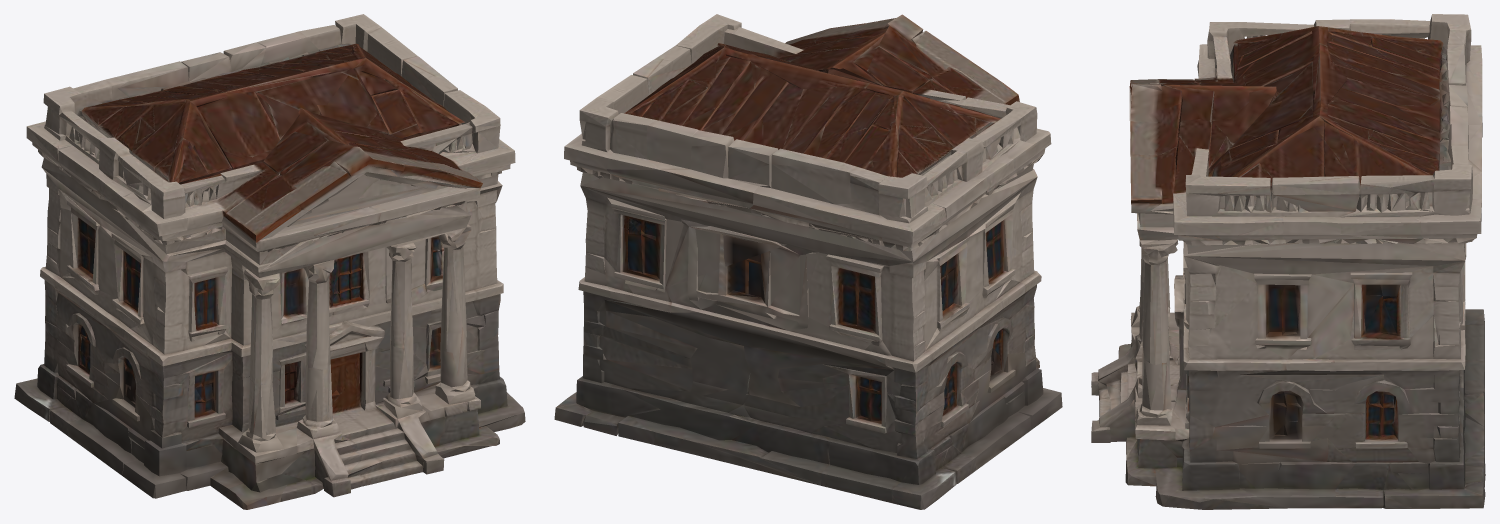
The model's file is bank.glb.
3 views of the same model, side by side, from view 1: azimuth 30°, elevation 25°; view 2: azimuth 150°, elevation 25°; view 3: azimuth 270°, elevation 25° (orthographic). The views are drawn at different scales.
Bounding box in the file's own units: 1.9 × 1.64 × 1.68.
1 material, 1 textured.
